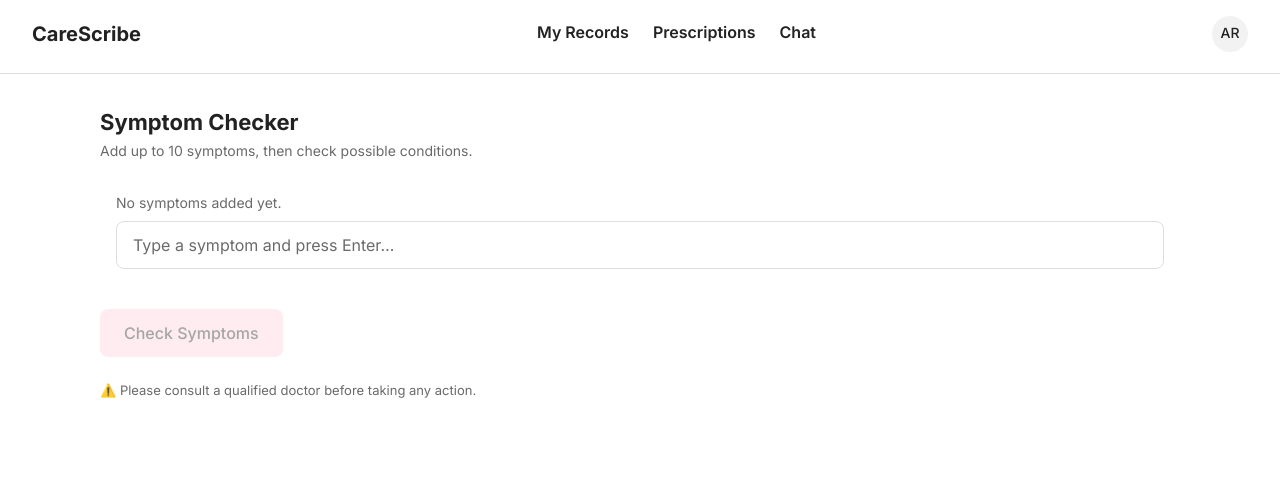
Test case: symptom checker › shows inline error when the check fails
Type "fever" into the field labelled "Type a symptom and press Enter". click: [640, 245]
box: left=116, top=221, right=1164, bottom=269
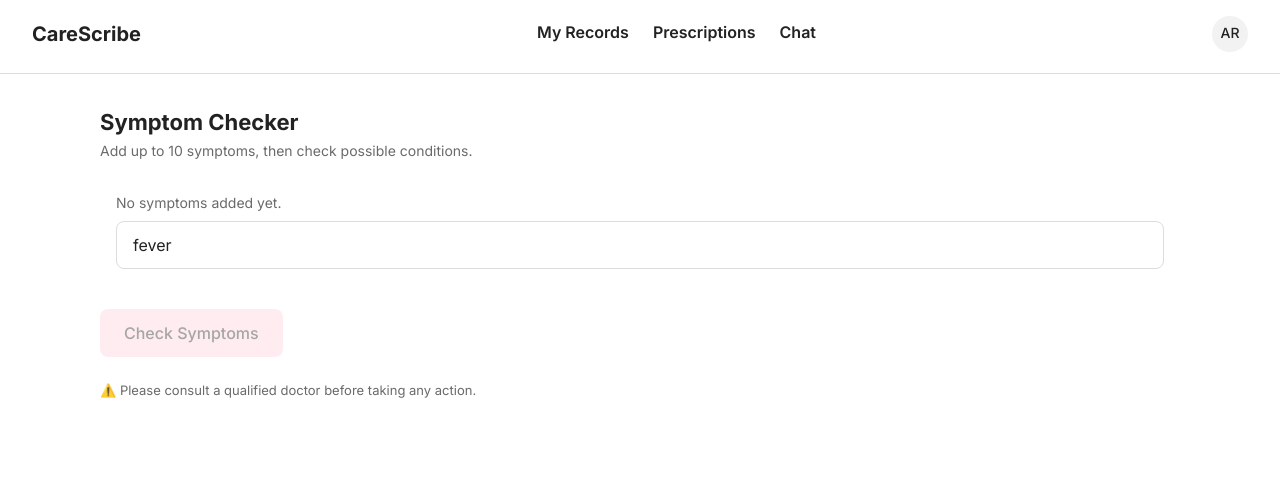
Press Enter in the field named "Type a symptom and press Enter", box left=116, top=221, right=1164, bottom=269
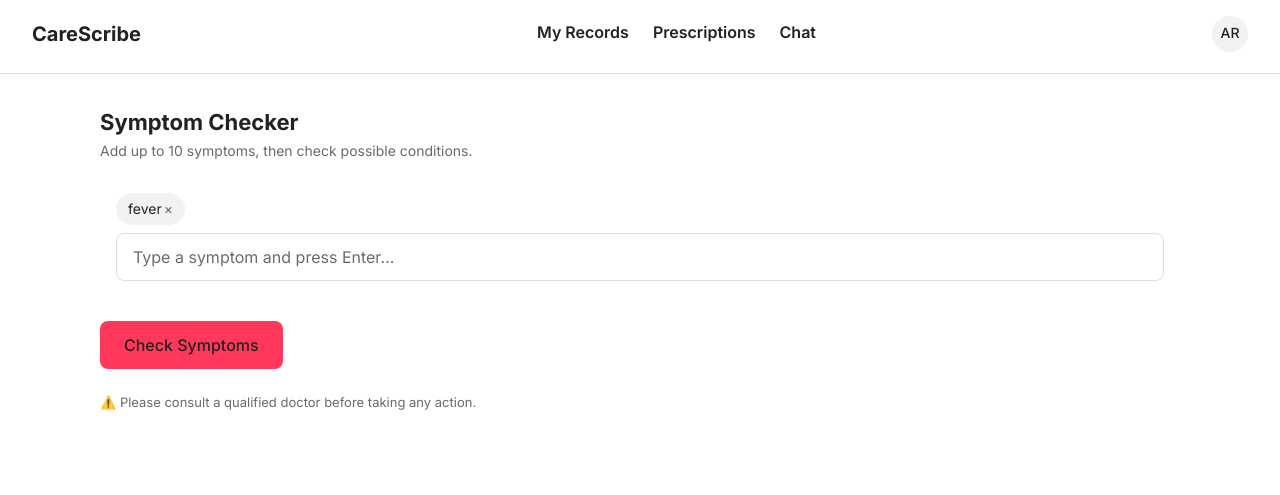
Click the button "Check Symptoms". click: [191, 345]
box: left=100, top=321, right=283, bottom=369
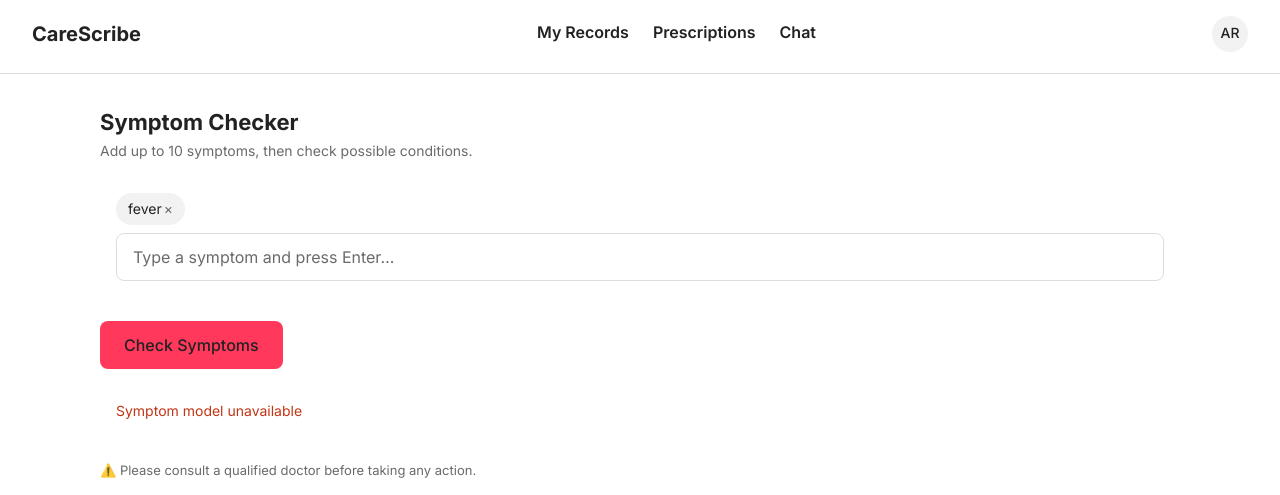
Check: the text "Symptom model unavailable" is shown, box left=116, top=402, right=302, bottom=419
